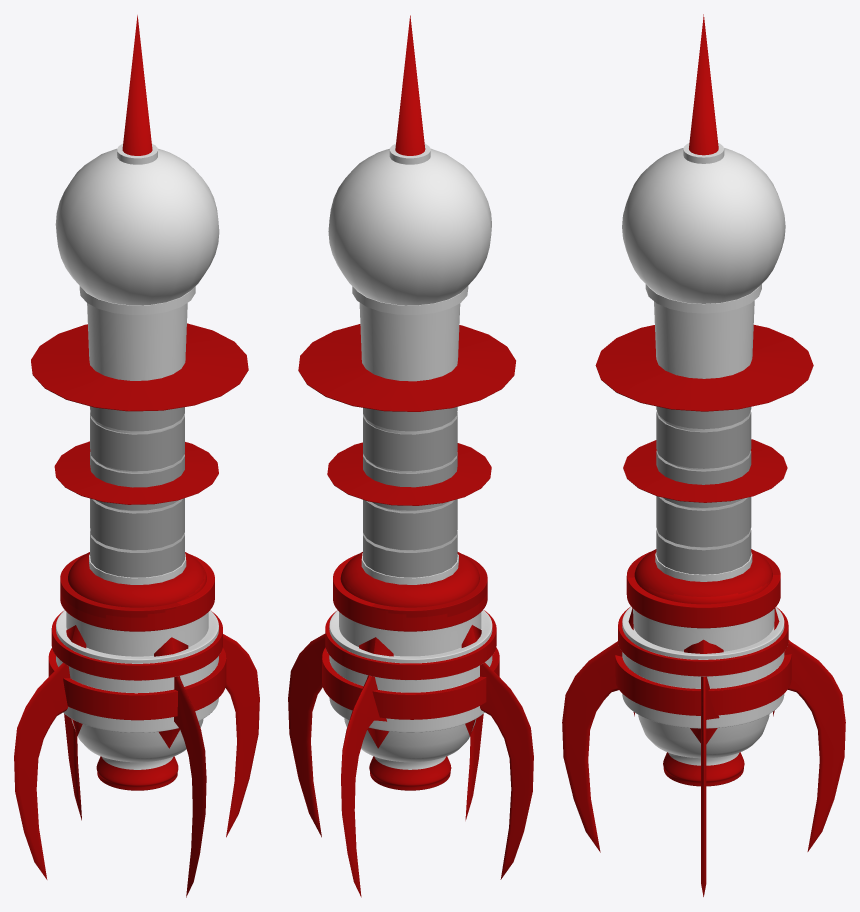
The model's file is newRocket.fbx.
3 views of the same model, side by side, from view 1: azimuth 30°, elevation 25°; view 2: azimuth 150°, elevation 25°; view 3: azimuth 270°, elevation 25° (orthographic).
Parts seen in each view (by area): view 1: pSphere1, Engine1, polySurface16, polySurface12, pCylinder21, pCylinder17, pCylinder22, pCylinder8, pCylinder10, pCylinder7, pCone1, pCylinder9 (+3 smaller); view 2: pSphere1, Engine1, polySurface16, polySurface12, pCylinder21, pCylinder17, pCylinder22, pCylinder8, pCylinder10, pCylinder7, pCone1, pCylinder9 (+3 smaller); view 3: pSphere1, Engine1, polySurface12, polySurface16, pCylinder21, pCylinder17, pCylinder22, pCylinder8, pCylinder10, pCylinder7, pCone1, pCylinder9 (+3 smaller).
Part boxes in pixels (bbox=[...]): pSphere1: bbox=[55, 148, 219, 305]; Engine1: bbox=[60, 552, 214, 790]; polySurface16: bbox=[14, 625, 259, 897]; polySurface12: bbox=[48, 610, 226, 732]; pCylinder21: bbox=[31, 323, 248, 411]; pCylinder17: bbox=[87, 303, 187, 550]; pCylinder22: bbox=[54, 441, 218, 504]; pCylinder8: bbox=[90, 498, 184, 550]; pCylinder10: bbox=[90, 412, 184, 471]; pCylinder7: bbox=[90, 531, 184, 577]; pCone1: bbox=[122, 15, 152, 155]; pCylinder9: bbox=[90, 452, 184, 510]; pSphere1: bbox=[328, 148, 491, 305]; Engine1: bbox=[333, 552, 487, 790]; polySurface16: bbox=[288, 625, 533, 897]; polySurface12: bbox=[322, 609, 499, 732]; pCylinder21: bbox=[298, 324, 515, 411]; pCylinder17: bbox=[359, 302, 460, 550]; pCylinder22: bbox=[327, 442, 491, 505]; pCylinder8: bbox=[363, 499, 457, 550]; pCylinder10: bbox=[363, 412, 457, 471]; pCylinder7: bbox=[363, 531, 457, 577]; pCone1: bbox=[395, 15, 425, 155]; pCylinder9: bbox=[363, 452, 457, 510]; pSphere1: bbox=[622, 148, 785, 303]; Engine1: bbox=[626, 549, 780, 786]; polySurface12: bbox=[615, 606, 791, 728]; polySurface16: bbox=[562, 608, 845, 896]; pCylinder21: bbox=[595, 325, 813, 411]; pCylinder17: bbox=[654, 300, 754, 547]; pCylinder22: bbox=[623, 439, 787, 502]; pCylinder8: bbox=[656, 496, 751, 547]; pCylinder10: bbox=[656, 411, 751, 468]; pCylinder7: bbox=[656, 529, 751, 574]; pCone1: bbox=[689, 14, 718, 155]; pCylinder9: bbox=[656, 450, 751, 507].
Bounding box in the file's own units: 11.19 × 36.76 × 11.24.
